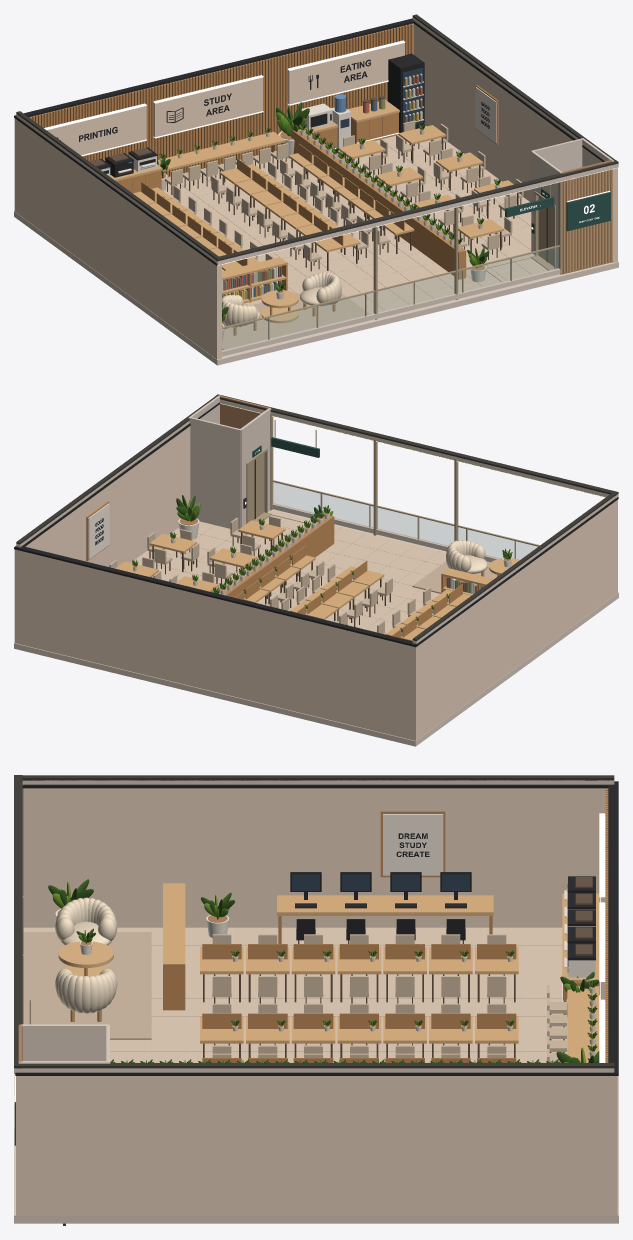
Rendered from Walk_Level_02.glb.
3 views of the same model, one above another, from view 1: azimuth 30°, elevation 25°; view 2: azimuth 150°, elevation 25°; view 3: azimuth 270°, elevation 25° (orthographic). The views are drawn at different scales.
Visible parts, largest first — view 1: Second floor slab, walls and entry, Slatted wall and illuminated pictogram signs, Facade | fluted tower, floor marker and cornice, Gallery frontage | glazed parapet, Study carrels.001, Refreshment counter, microwave, water cooler and drinks refr, Lounge seating and coffee table, Aligned elevator | landing doors and well, Floor plate | lift well opening, Study carrels.002, Window study bar and seven stools, Study carrels (+11 smaller); view 2: Second floor slab, walls and entry, Aligned elevator | landing doors and well, Facade | fluted tower, floor marker and cornice, Gallery frontage | glazed parapet, Floor plate | lift well opening, Study carrels.001, Cafe tables and chairs.002, Study carrels.002, Lounge seating and coffee table, Study carrels, Fluted planter partition, Cafe tables and chairs.003 (+5 smaller); view 3: Second floor slab, walls and entry, Study carrels, Facade | fluted tower, floor marker and cornice, Lounge seating and coffee table, Study carrels.001, Computer workstations, Floor plate | lift well opening, Framed wall typography, Five multifunction printers and cabinetry, Aligned elevator | landing doors and well, Window study bar and seven stools, Double-tier library shelf (+4 smaller).
Boxes of the visible parts, x1=… form: Second floor slab, walls and entry: x1=14, y1=18, x2=617, y2=359; Slatted wall and illuminated pictogram signs: x1=29, y1=23, x2=413, y2=177; Facade | fluted tower, floor marker and cornice: x1=16, y1=14, x2=618, y2=319; Gallery frontage | glazed parapet: x1=222, y1=245, x2=560, y2=356; Study carrels.001: x1=211, y1=158, x2=368, y2=271; Refreshment counter, microwave, water cooler and drinks refr: x1=301, y1=53, x2=424, y2=150; Lounge seating and coffee table: x1=222, y1=272, x2=369, y2=349; Aligned elevator | landing doors and well: x1=531, y1=138, x2=613, y2=274; Floor plate | lift well opening: x1=14, y1=211, x2=618, y2=365; Study carrels.002: x1=280, y1=143, x2=414, y2=254; Window study bar and seven stools: x1=158, y1=131, x2=288, y2=194; Study carrels: x1=133, y1=182, x2=273, y2=270; Second floor slab, walls and entry: x1=14, y1=402, x2=618, y2=740; Aligned elevator | landing doors and well: x1=188, y1=395, x2=271, y2=529; Facade | fluted tower, floor marker and cornice: x1=16, y1=394, x2=618, y2=643; Gallery frontage | glazed parapet: x1=272, y1=480, x2=539, y2=562; Floor plate | lift well opening: x1=14, y1=509, x2=618, y2=746; Study carrels.001: x1=281, y1=560, x2=392, y2=626; Cafe tables and chairs.002: x1=147, y1=529, x2=259, y2=587; Study carrels.002: x1=234, y1=545, x2=324, y2=608; Lounge seating and coffee table: x1=412, y1=540, x2=519, y2=593; Study carrels: x1=377, y1=584, x2=470, y2=640; Fluted planter partition: x1=219, y1=515, x2=334, y2=597; Cafe tables and chairs.003: x1=230, y1=516, x2=292, y2=557; Second floor slab, walls and entry: x1=15, y1=781, x2=618, y2=1215; Study carrels: x1=200, y1=934, x2=518, y2=1003; Facade | fluted tower, floor marker and cornice: x1=14, y1=775, x2=614, y2=1145; Lounge seating and coffee table: x1=23, y1=897, x2=151, y2=1039; Study carrels.001: x1=200, y1=1003, x2=518, y2=1057; Computer workstations: x1=277, y1=872, x2=493, y2=943; Floor plate | lift well opening: x1=14, y1=924, x2=618, y2=1223; Framed wall typography: x1=380, y1=811, x2=445, y2=877; Five multifunction printers and cabinetry: x1=562, y1=876, x2=599, y2=1016; Aligned elevator | landing doors and well: x1=18, y1=1024, x2=110, y2=1225; Window study bar and seven stools: x1=547, y1=985, x2=599, y2=1062; Double-tier library shelf: x1=163, y1=883, x2=185, y2=1010.
Size of the model in its own units: 16.44 by 4.34 by 14.4.
